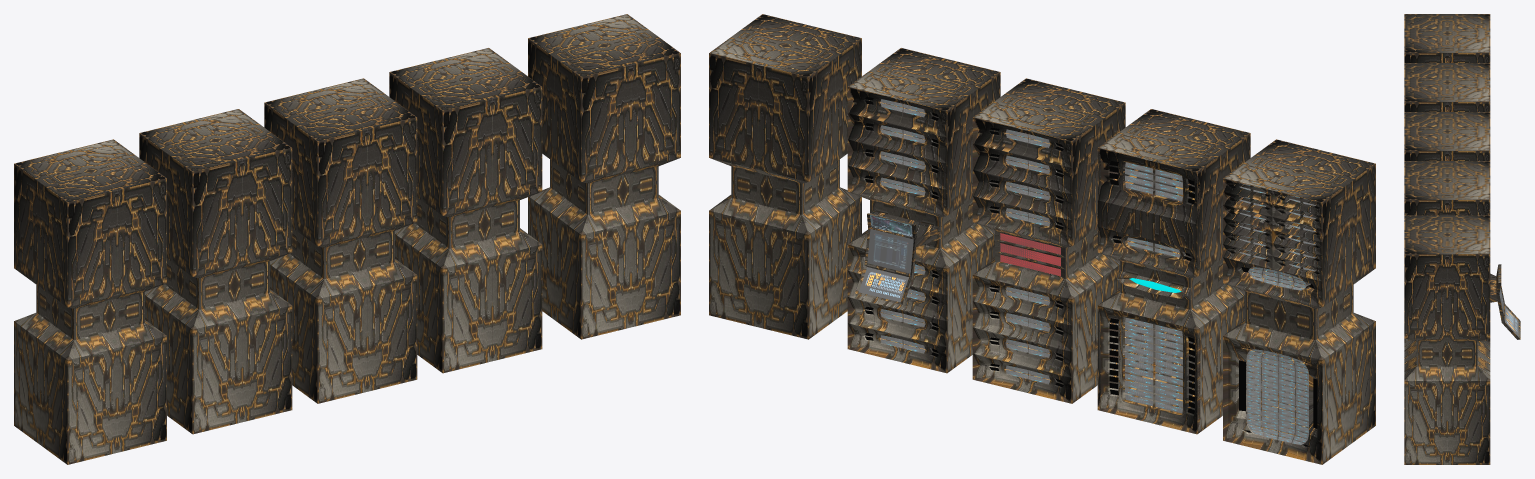
Rendered from sci-fi_based_server_racks.glb.
3 views of the same model, side by side, from view 1: azimuth 30°, elevation 25°; view 2: azimuth 150°, elevation 25°; view 3: azimuth 270°, elevation 25° (orthographic). The views are drawn at different scales.
Parts seen in each view (by area): view 1: MaterialFBXASC032FBXASC0352142150880 (×5); view 2: MaterialFBXASC032FBXASC0352142150880 (×5), MaterialFBXASC032FBXASC0352142146802 (×4), ORDNUNGSKRAFTFBXASC032Graviton (×4), MaterialFBXASC032FBXASC0352142147152, MaterialFBXASC032FBXASC03511298, MaterialFBXASC032FBXASC0352142148579; view 3: MaterialFBXASC032FBXASC0352142150880 (×5), MaterialFBXASC032FBXASC0352142148579.
Part boxes in pixels (bbox=[...]): MaterialFBXASC032FBXASC0352142150880 (×5): bbox=[14, 14, 680, 464]; MaterialFBXASC032FBXASC0352142150880 (×5): bbox=[709, 14, 1375, 464]; MaterialFBXASC032FBXASC0352142146802 (×4): bbox=[880, 99, 1315, 444]; ORDNUNGSKRAFTFBXASC032Graviton (×4): bbox=[865, 97, 1320, 446]; MaterialFBXASC032FBXASC0352142147152: bbox=[867, 229, 913, 273]; MaterialFBXASC032FBXASC03511298: bbox=[1000, 233, 1060, 276]; MaterialFBXASC032FBXASC0352142148579: bbox=[859, 267, 908, 302]; MaterialFBXASC032FBXASC0352142150880 (×5): bbox=[1404, 14, 1520, 464]; MaterialFBXASC032FBXASC0352142148579: bbox=[1505, 306, 1518, 336].
Size of the model in its own units: 60.65 by 24.78 by 12.39.
8 materials, 1 textured.
